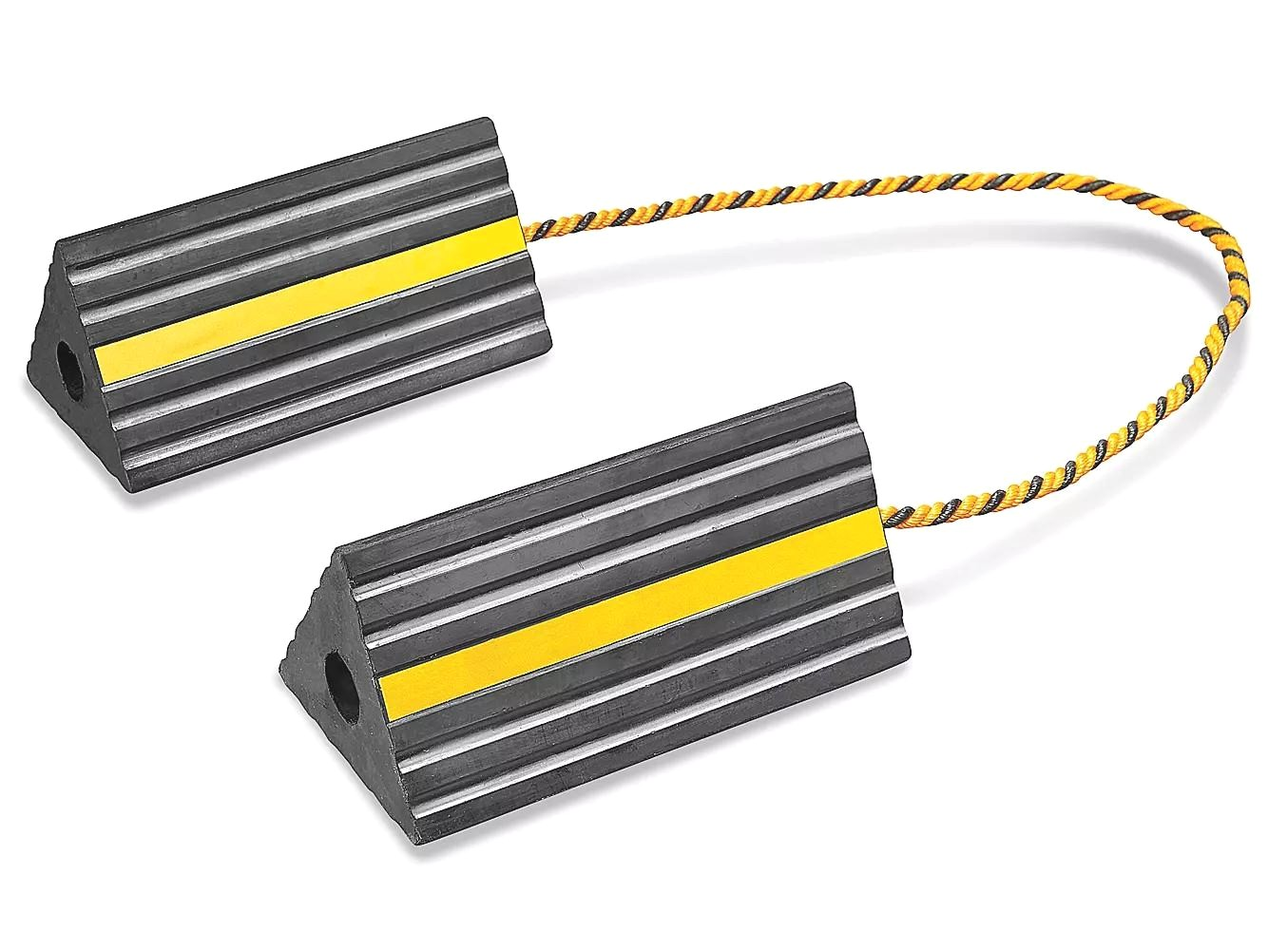chock: (272, 379, 914, 852), (24, 114, 557, 499)
